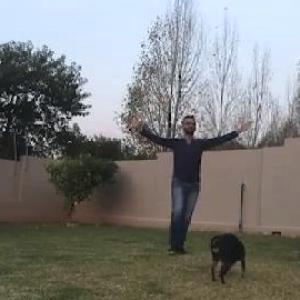takeoff: (131, 96, 266, 266)
